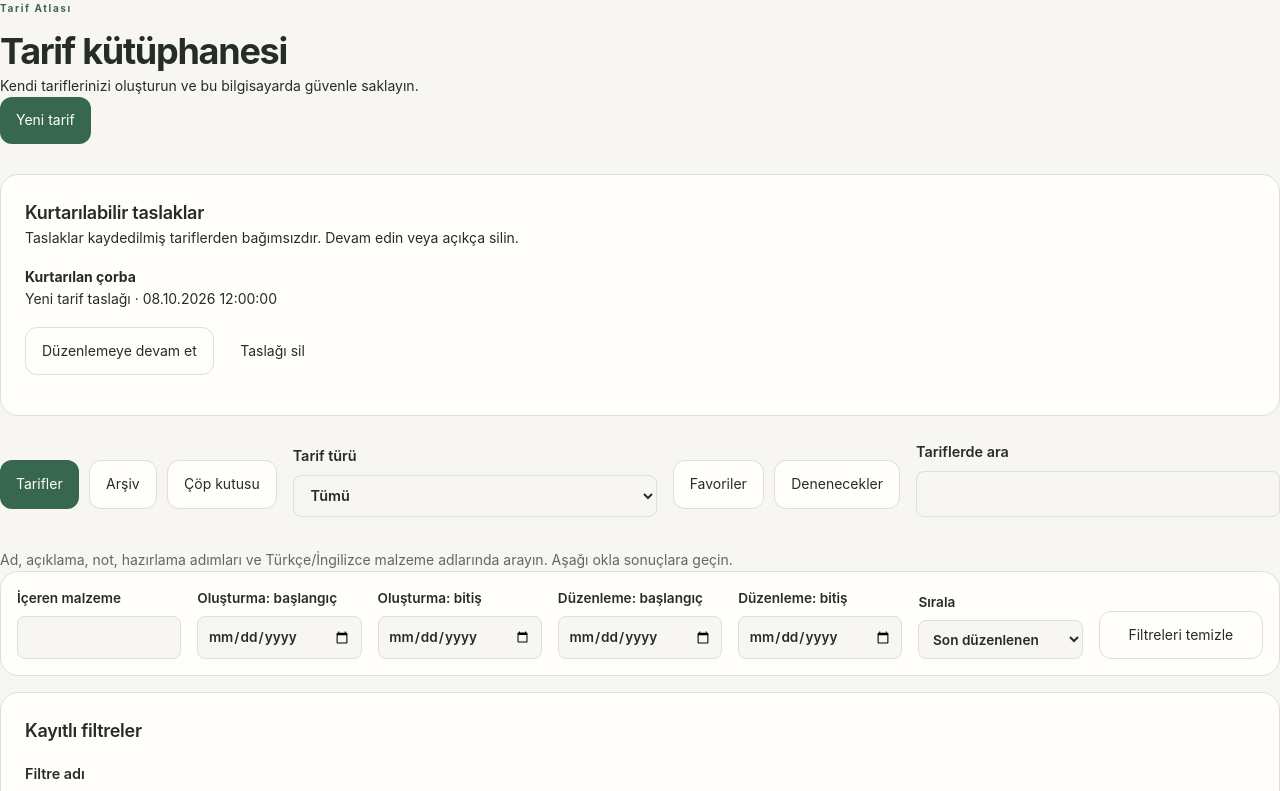
Test: recovery restores unfinished fields and keep-draft navigation flushes SQLite client
Click the button "Düzenlemeye devam et" at point(119, 351), box [25,326,214,375]
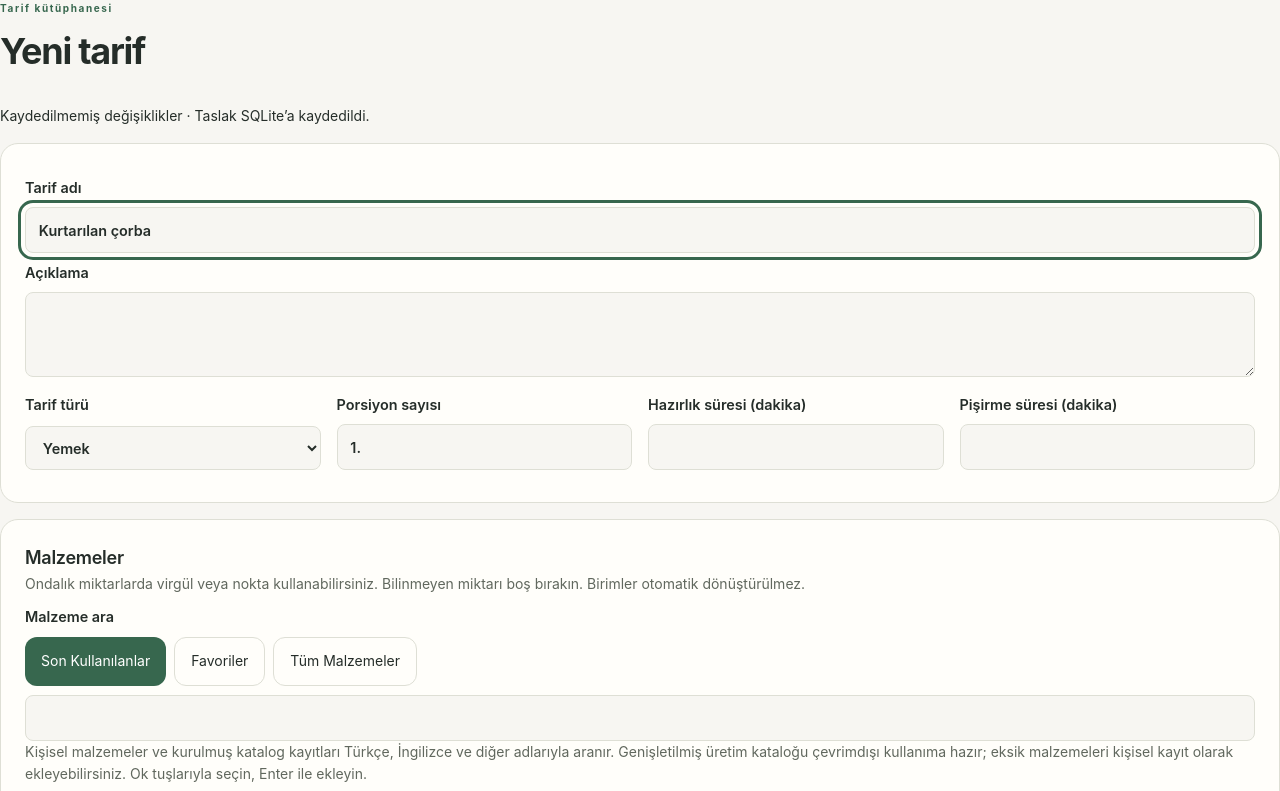
Expected: the field labelled "Tarif adı" holds "Kurtarılan çorba"
Expected: the field labelled "Porsiyon sayısı" holds "1.", [336,424,632,470]
Type " düzenleme" into the field labelled "Tarif adı" at point(640, 230), box [25,207,1255,253]
(page scrolled)
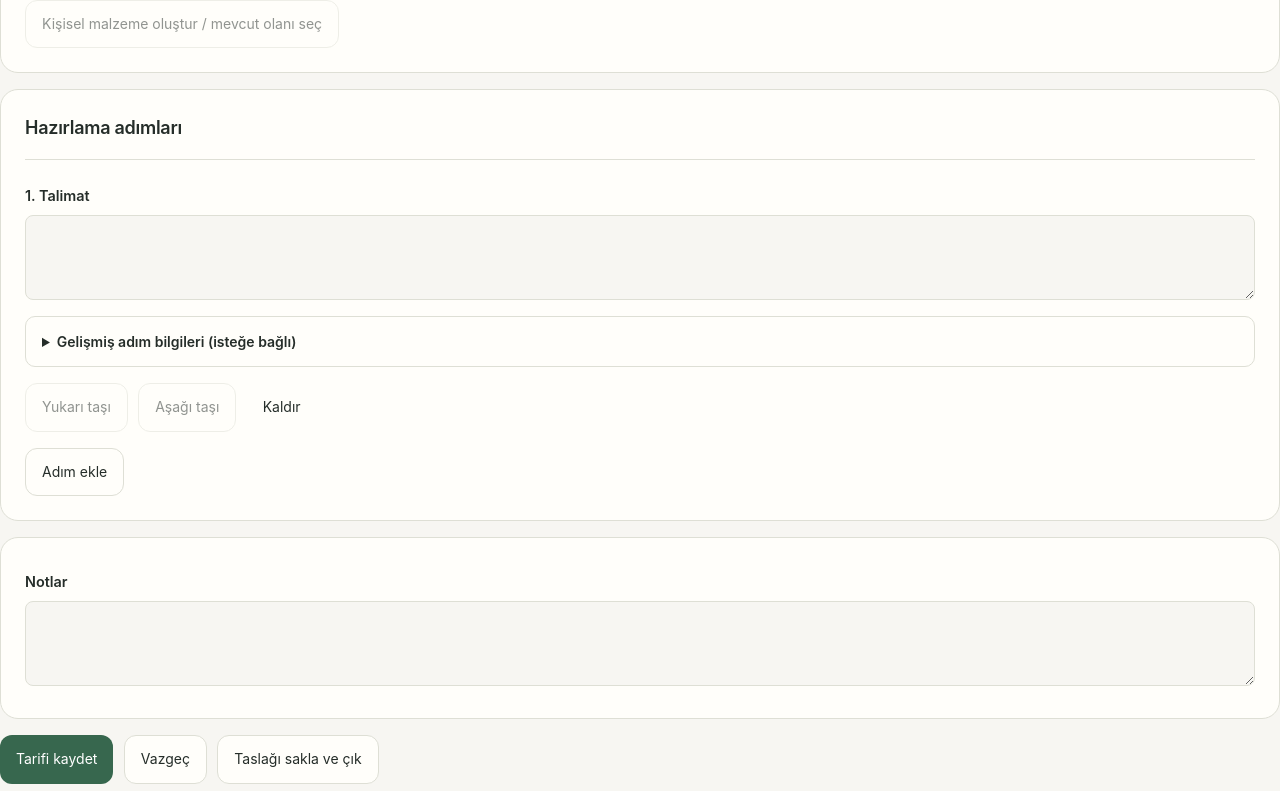
Click the button "Taslağı sakla ve çık" at point(298, 760), box [217,735,379,784]
(page scrolled)
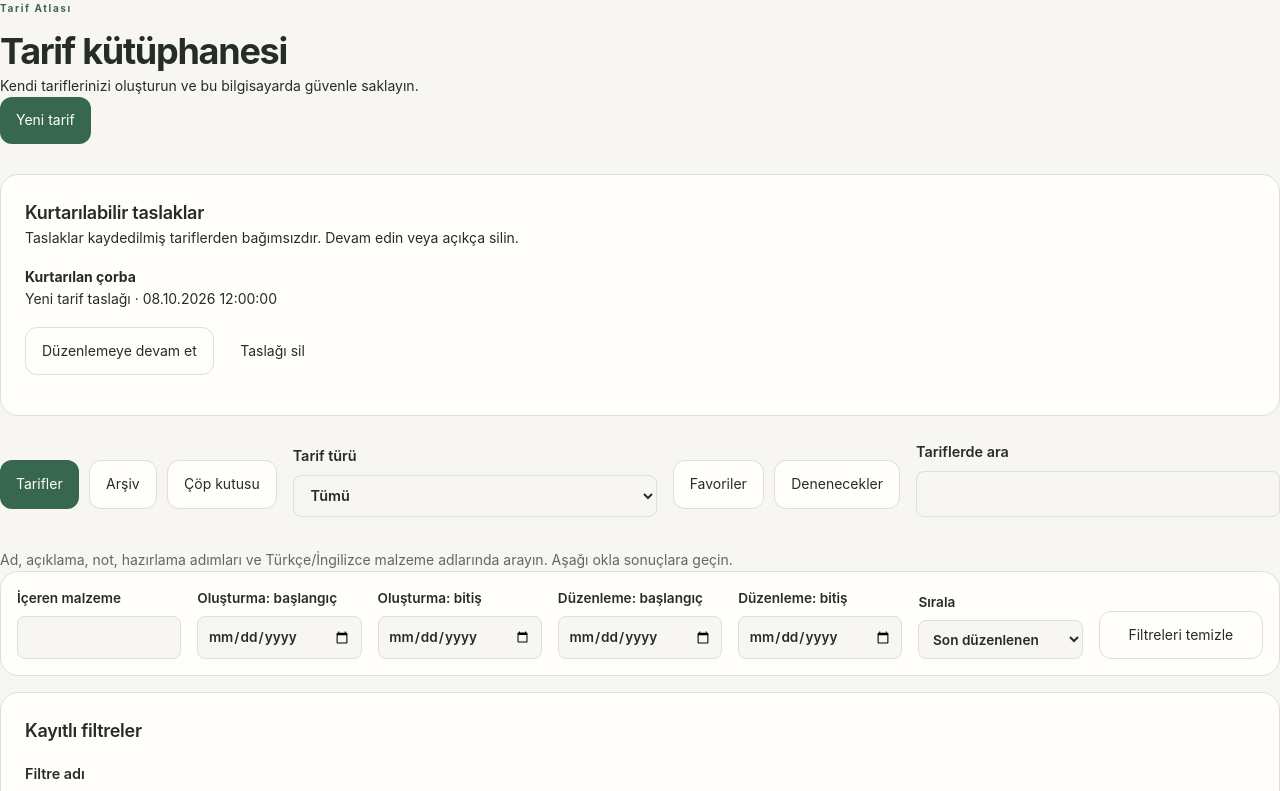
Expected: the heading "Tarif kütüphanesi" is shown, [0,29,287,73]
